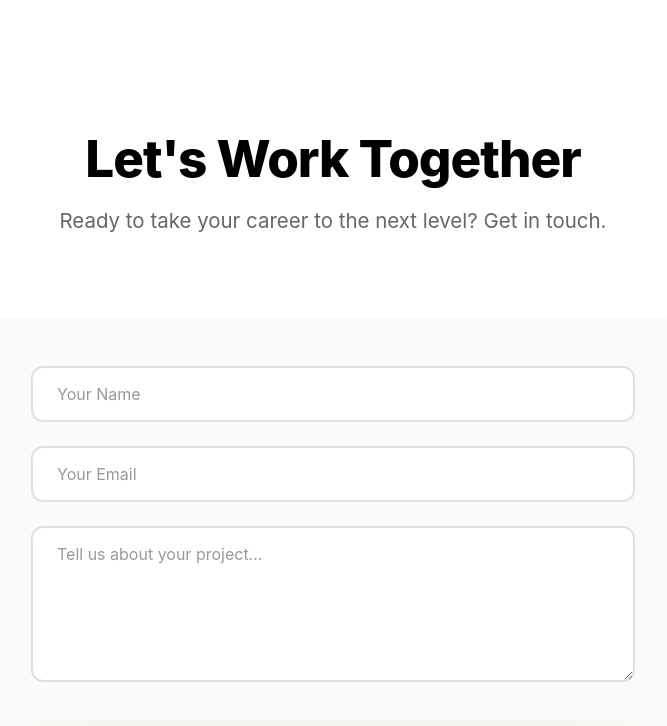
Scenario: Contact Component › displays error message on failed submission
In the field with placeholder "Your Name": [333, 394] box [31,366,635,422], type "John Doe"
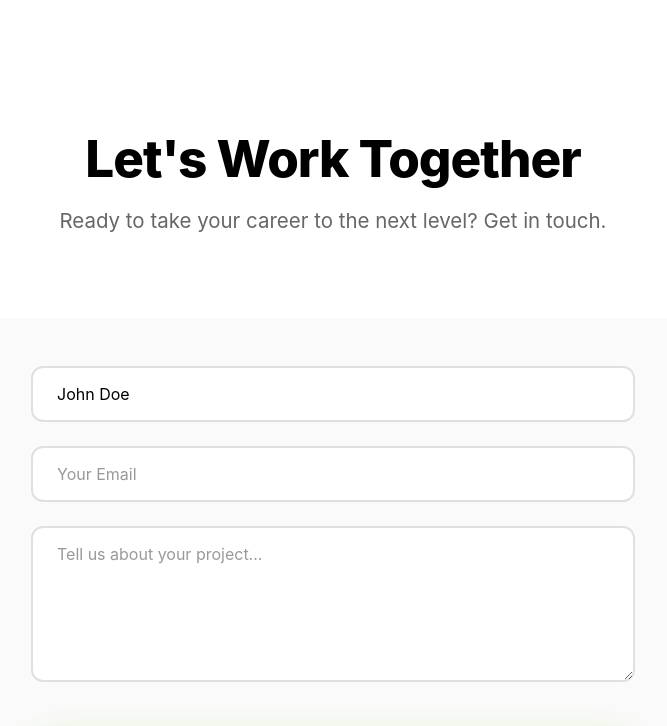
In the field with placeholder "Your Email": [333, 474] box [31,446,635,502], type "john@example.com"
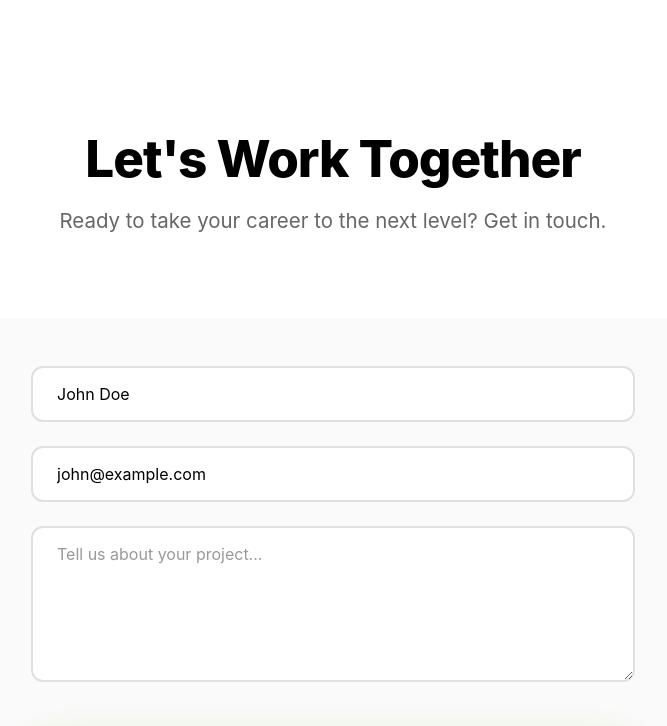
In the text box with placeholder "Tell us about your project...": [333, 604] box [31,526,635,682], type "Test message"
(page scrolled)
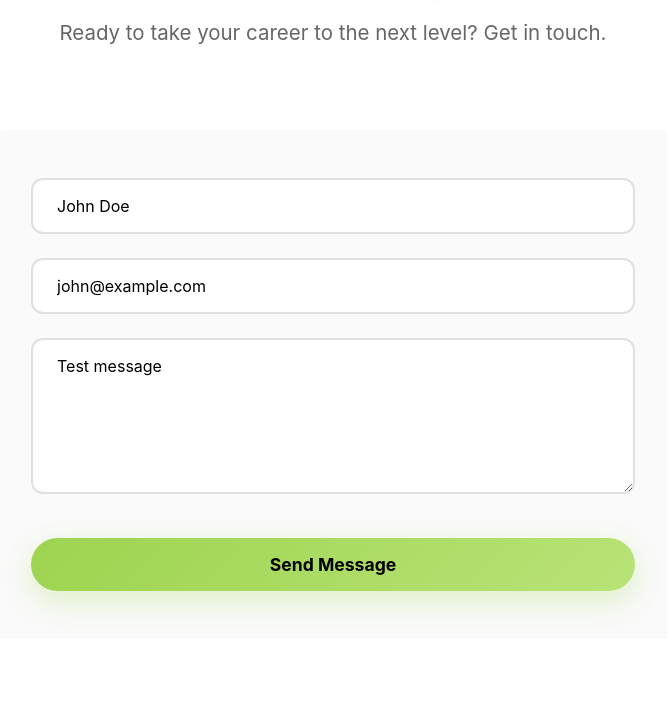
Click the button "Send Message": [333, 564] box [31,538,635,591]
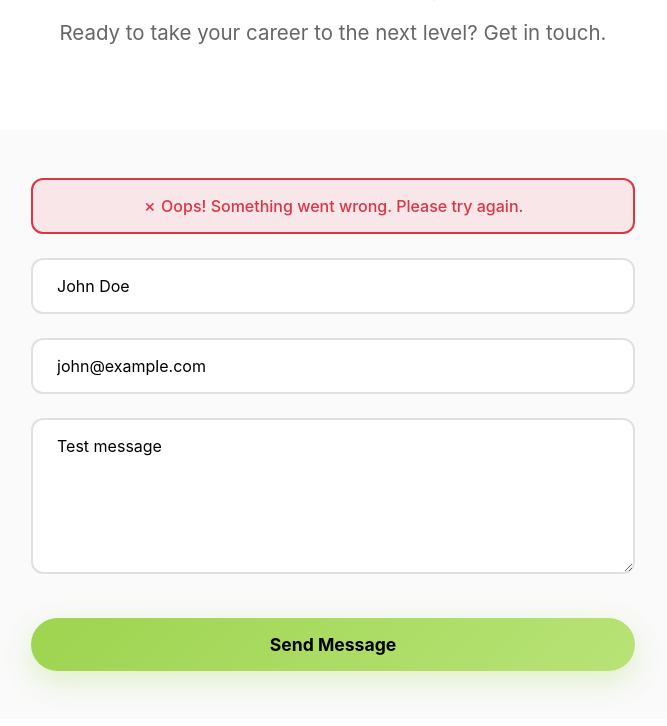
Check: the text "✗ Oops! Something went wrong. Please try again." is shown, box [31,178,635,234]
